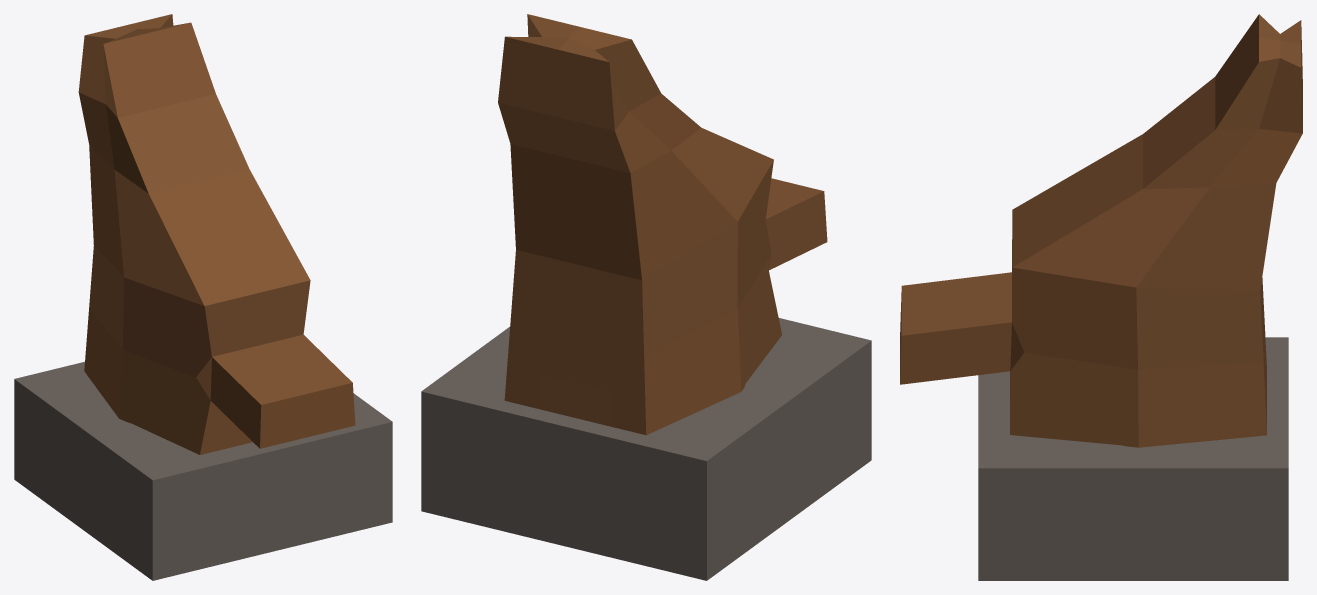
The model's file is giraffe.fbx.
3 renders of one model, left to right at view 1: azimuth 30°, elevation 25°; view 2: azimuth 150°, elevation 25°; view 3: azimuth 270°, elevation 25°, orthographic. The views are drawn at different scales.
Parts seen in each view (by area): view 1: Cube; view 2: Cube; view 3: Cube.
Boxes of the visible parts, x1=… form: Cube: x1=14, y1=14, x2=392, y2=580; Cube: x1=421, y1=14, x2=871, y2=580; Cube: x1=900, y1=14, x2=1302, y2=580.
Size of the model in its own units: 57.59 by 97.85 by 74.79.
